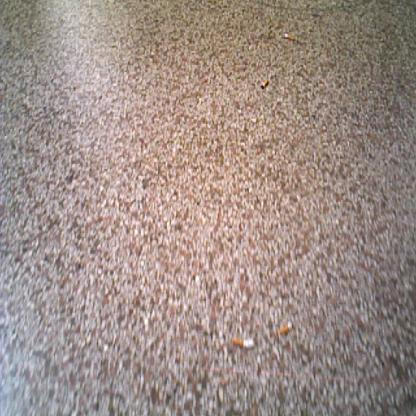dirty: (231, 336, 255, 350), (277, 320, 294, 336), (259, 77, 269, 90), (283, 32, 296, 42)
